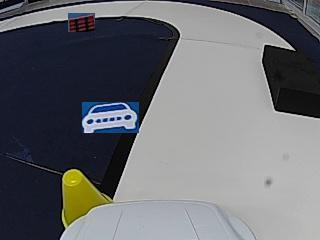block: (263, 44, 318, 117)
cone: (63, 170, 112, 203)
